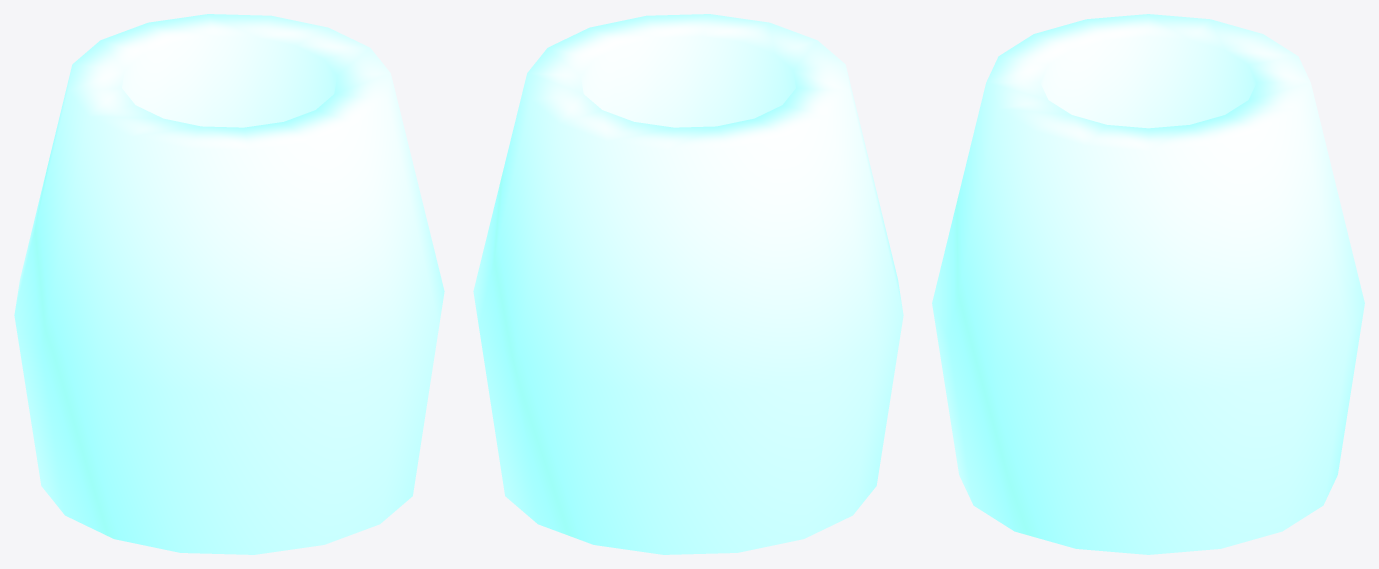
Rendered from fragment-glass-vessels.glb.
3 views of the same model, side by side, from view 1: azimuth 30°, elevation 25°; view 2: azimuth 150°, elevation 25°; view 3: azimuth 270°, elevation 25° (orthographic).
Parts seen in each view (by area): view 1: default; view 2: default; view 3: default.
Boxes of the visible parts, bbox=[...] form: default: bbox=[14, 14, 444, 554]; default: bbox=[473, 14, 903, 554]; default: bbox=[932, 14, 1364, 554].
Bounding box in the file's own units: 0.18 × 0.18 × 0.18.
